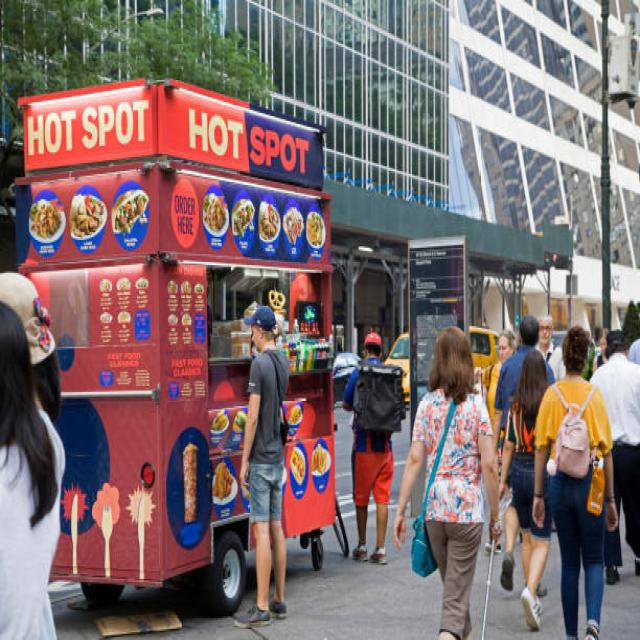Emperan: (11, 73, 339, 623)
